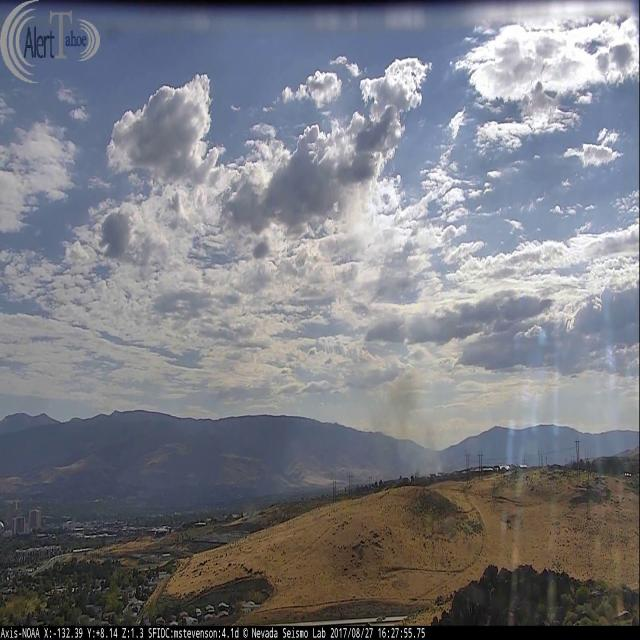smoke: (370, 365, 452, 484)
